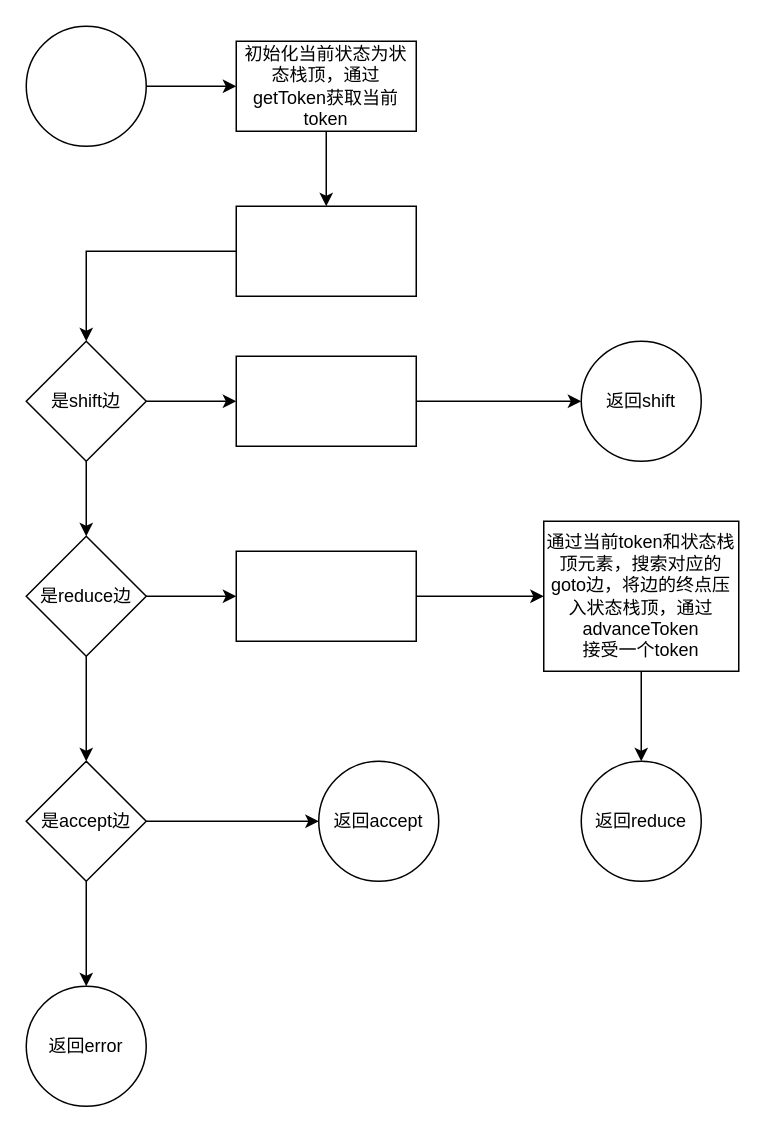
This 765x1133 diagram has some shape labels left out. The centre of each missing label's shape, as x and y in pixels:
"在边集中寻找以但钱状态为起点，条件为当前token的边" belongs at pixel 325 250.
"将边的终点压入状态栈顶，通过advanceToken 接受一个token" belongs at pixel 325 400.
"开始" belongs at pixel 85 85.
"查看规约文法，从状态栈中弹出相应的状态数，将规约后的结果压入状态栈" belongs at pixel 325 595.
